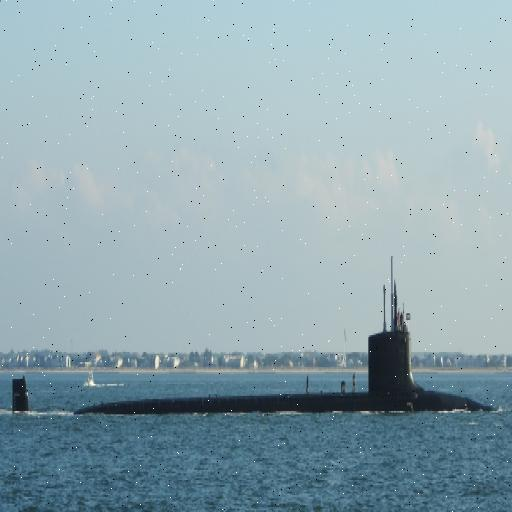submarine: (13, 260, 497, 412)
